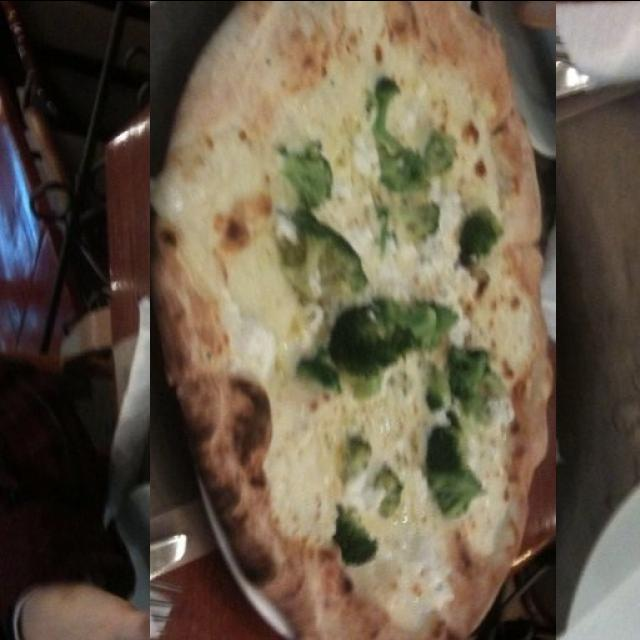pizza: (150, 0, 556, 640)
